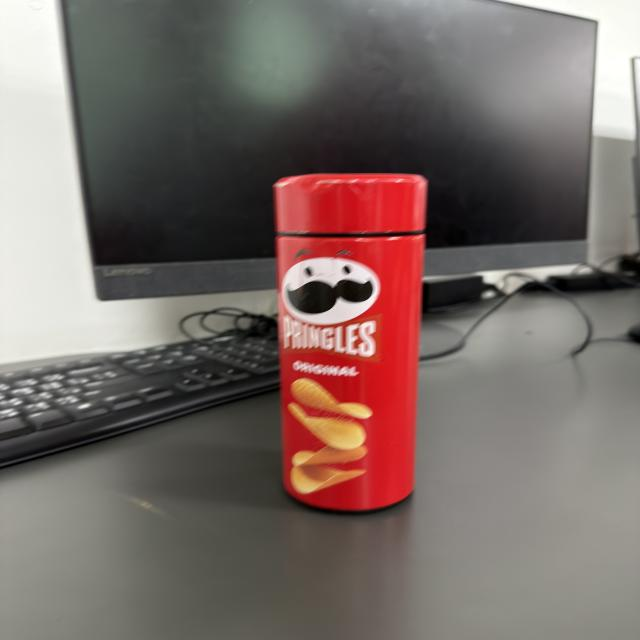water bottle: (273, 169, 418, 511)
